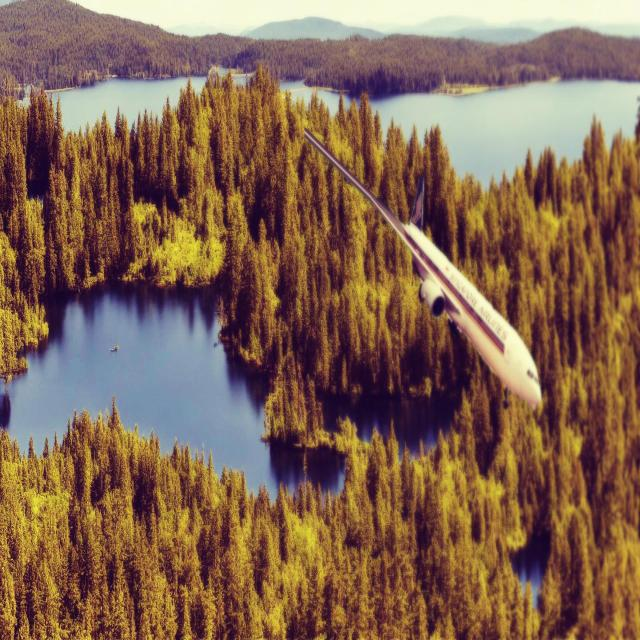airplane: (303, 125, 542, 411)
